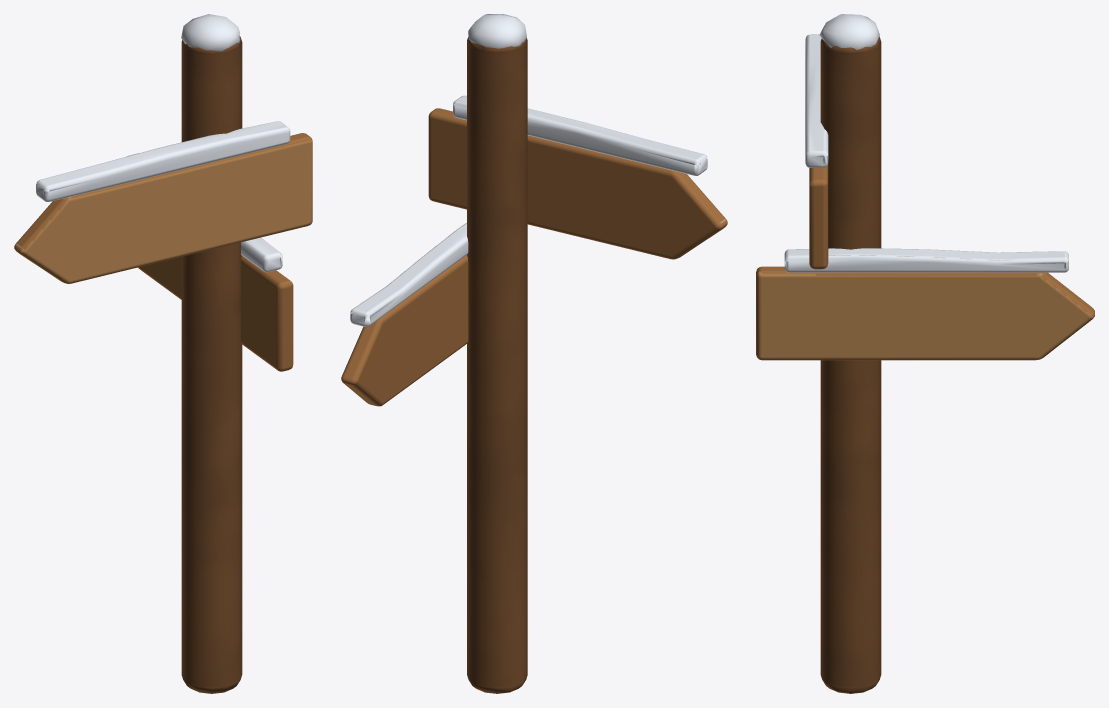
File: signpost.glb
The picture shows the model from 3 angles, left to right: view 1: azimuth 30°, elevation 25°; view 2: azimuth 150°, elevation 25°; view 3: azimuth 270°, elevation 25°; orthographic projection.
Parts seen in each view (by area): view 1: a1; view 2: a1; view 3: a1.
Part boxes in pixels (x1,y1,x2,y2): a1: [14, 14, 312, 693]; a1: [341, 14, 727, 693]; a1: [756, 14, 1094, 693].
Size of the model in its own units: 0.8929 by 1.94 by 0.8929.
1 material, 1 textured.
